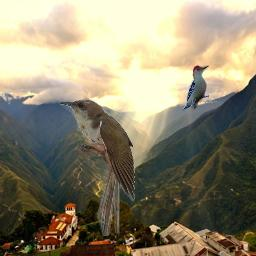Cuckoo: (59, 98, 135, 236)
Woodpecker: (182, 65, 209, 111)
